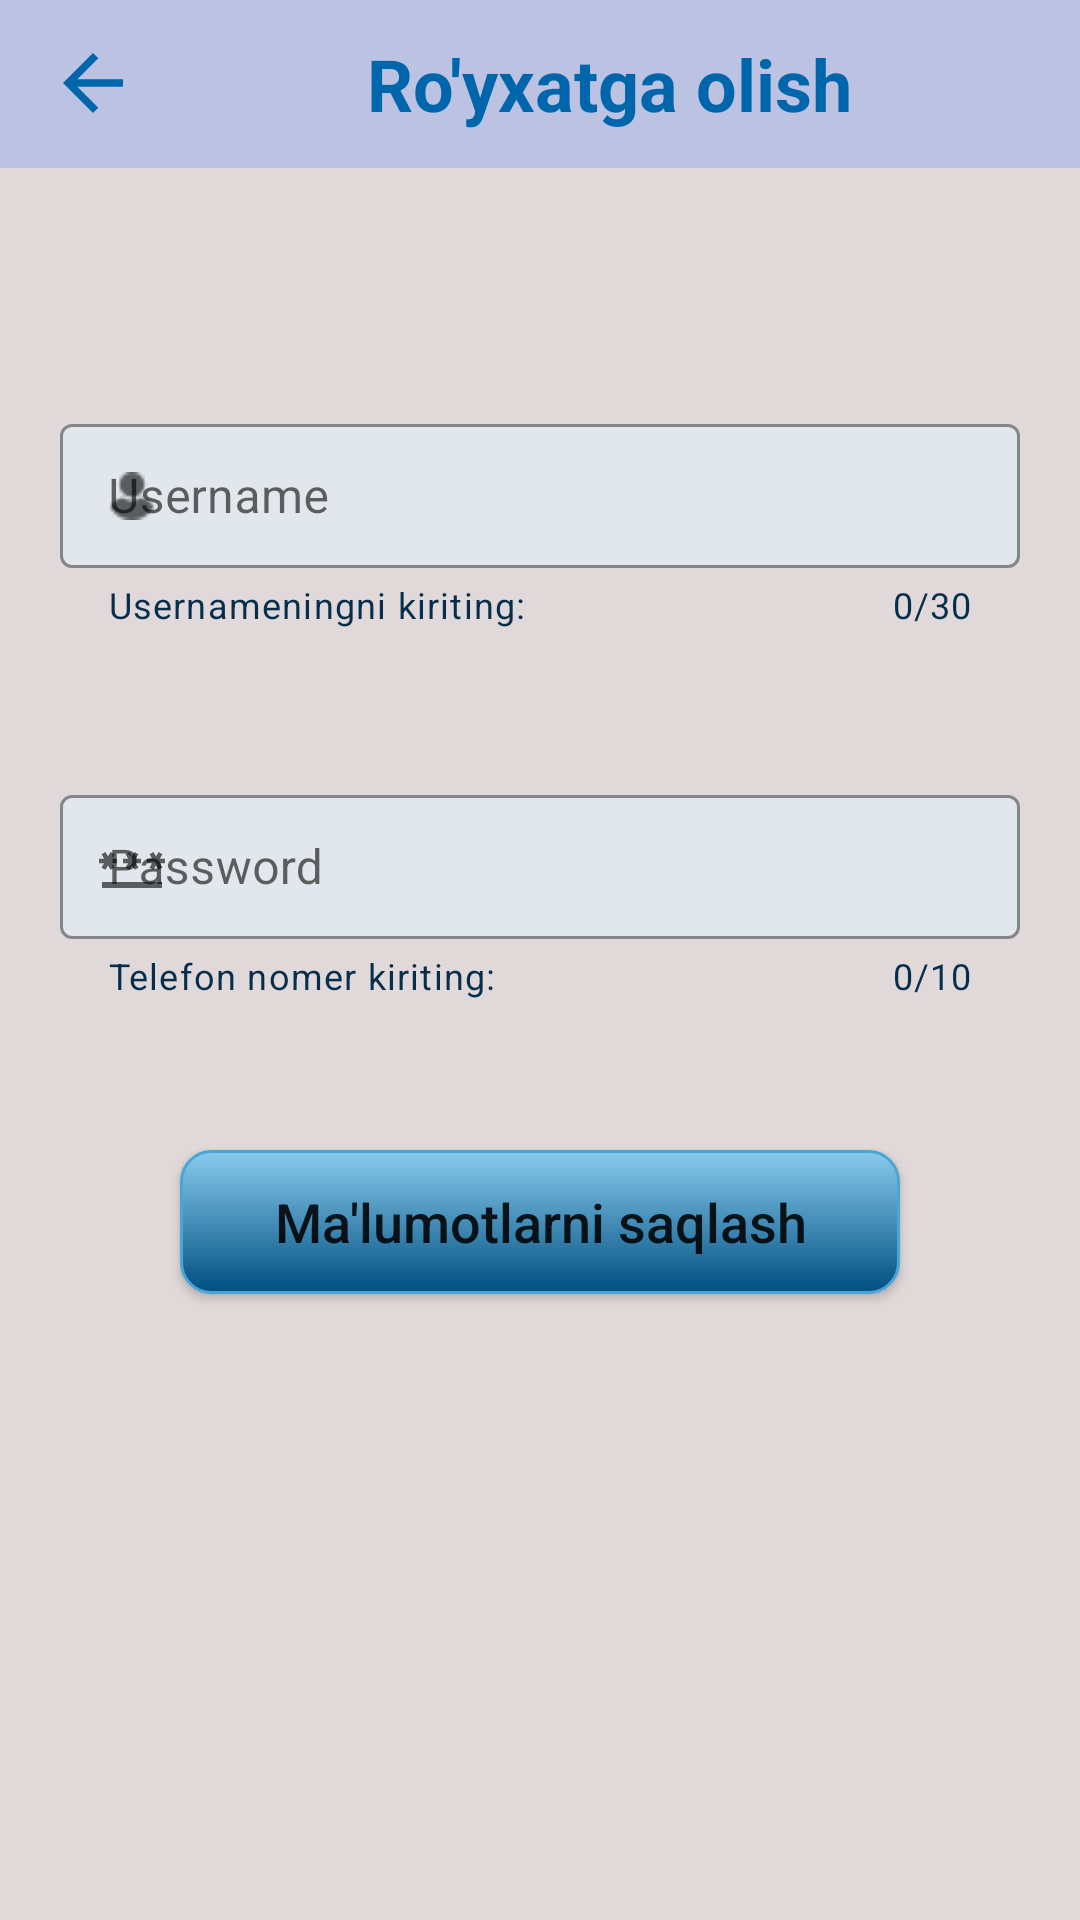

Where to tap for icons on this 1080 × 1920 app screen, as (x,y):
arrow back: (93,83)
